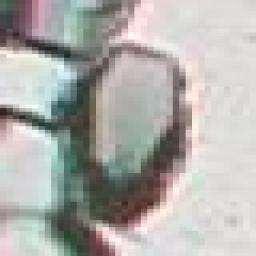crystals: (65, 39, 204, 234)
